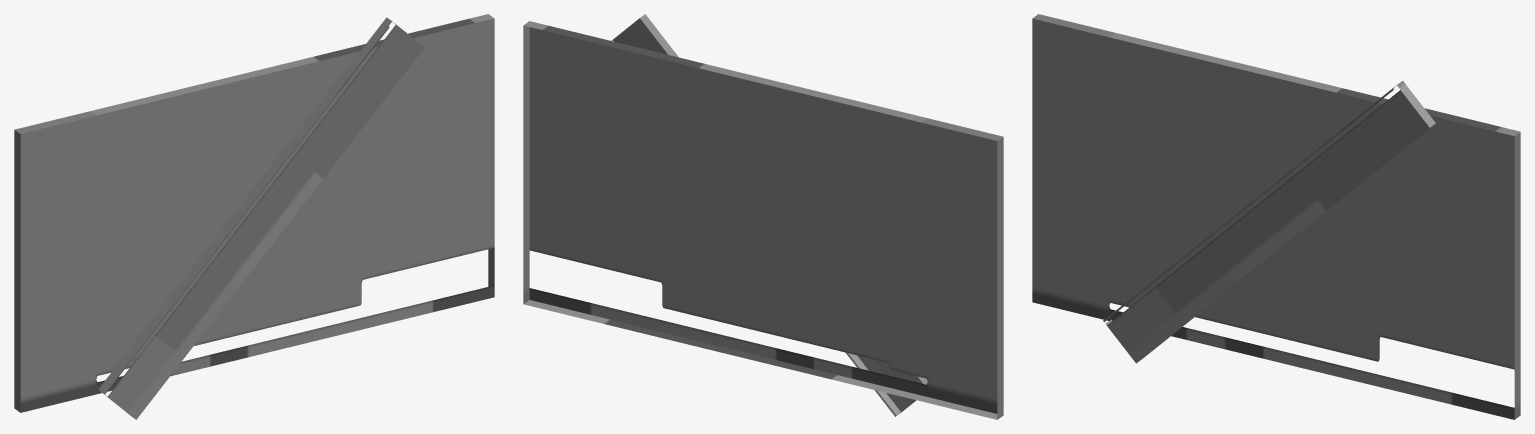
3 renders of one model, left to right at view 1: azimuth 30°, elevation 25°; view 2: azimuth 150°, elevation 25°; view 3: azimuth 330°, elevation 25°, orthographic.
Bounding box in the file's own units: 0.3888 × 0.2635 × 0.0184.
